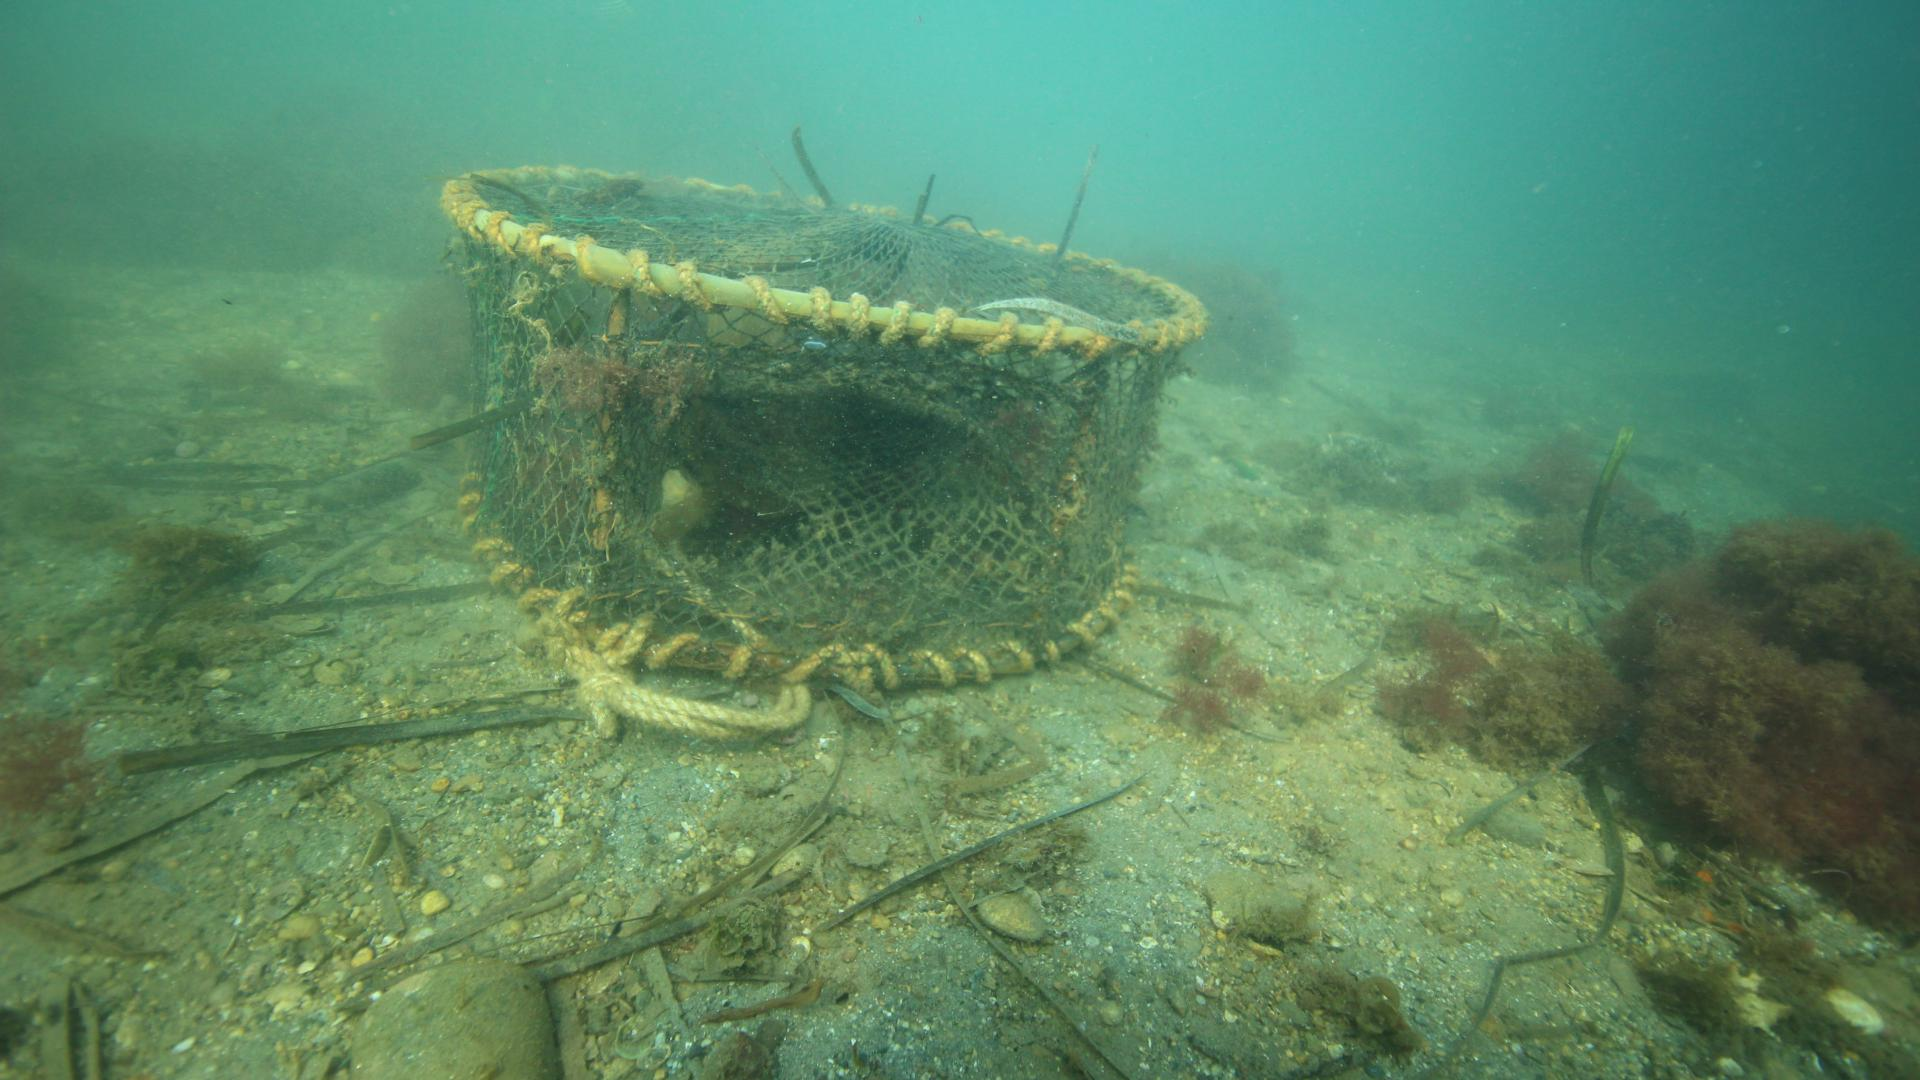bundle of ropes: (564, 650, 808, 742)
circular fish trap: (436, 161, 1211, 694)
